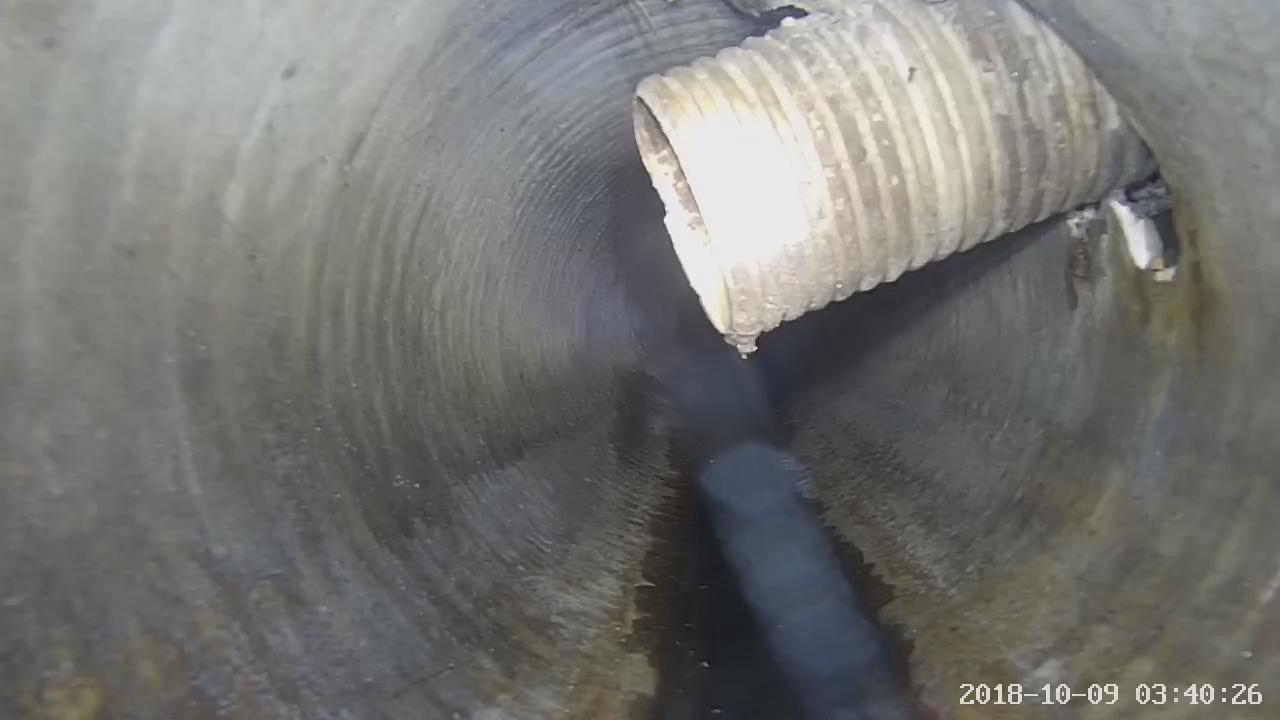ZGAJ: (632, 0, 1153, 357)
